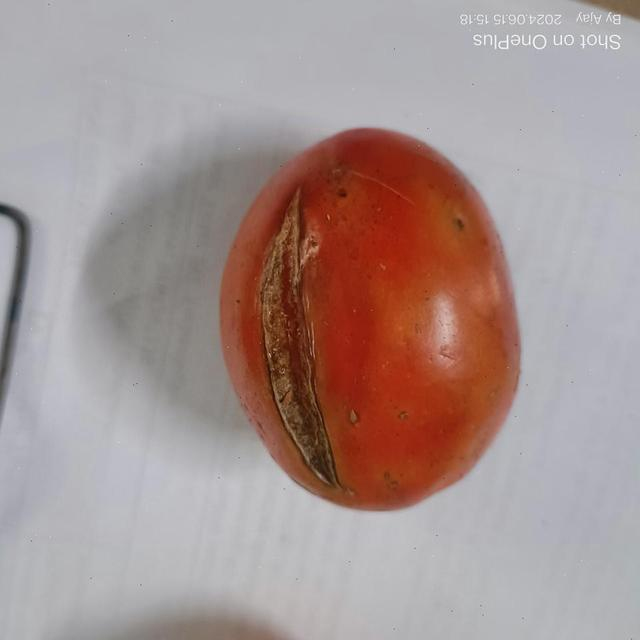Cracking Fruit: (122, 222, 331, 431)
